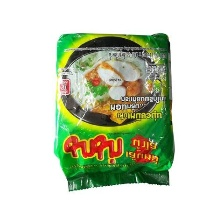snack: (45, 25, 184, 199)
